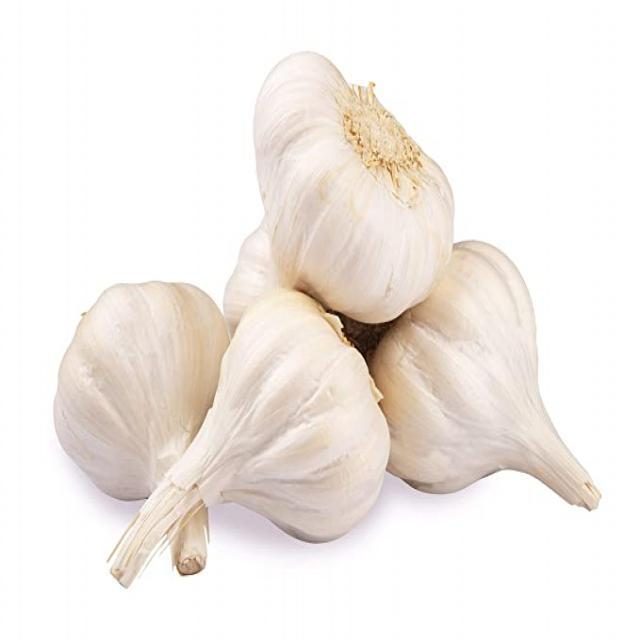garlic: (112, 289, 388, 586), (373, 242, 598, 514), (253, 53, 462, 324), (54, 276, 238, 579)
